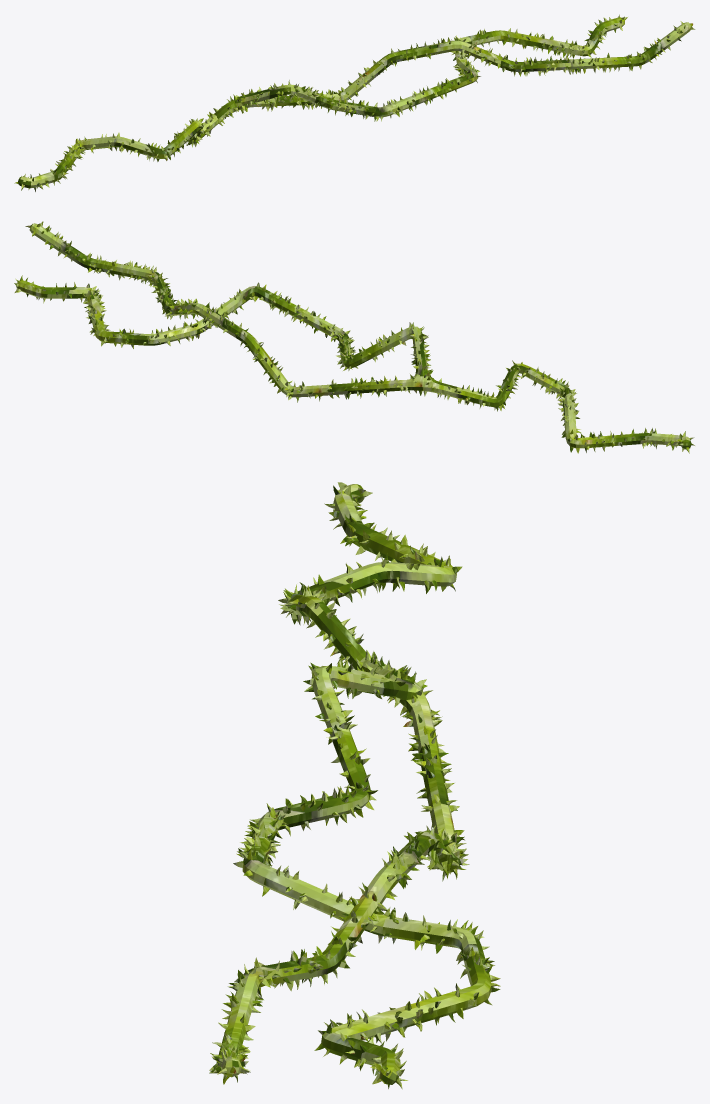
Rendered from tappurapitkä.fbx.
The picture shows the model from 3 angles, top to bottom: view 1: azimuth 30°, elevation 25°; view 2: azimuth 150°, elevation 25°; view 3: azimuth 270°, elevation 25°; orthographic projection. The views are drawn at different scales.
Visible parts, largest first — view 1: BezierCurve.004; view 2: BezierCurve.004; view 3: BezierCurve.004.
Boxes of the visible parts, x1,y1,x2,y2 form: BezierCurve.004: (14,14,695,191); BezierCurve.004: (14,221,694,453); BezierCurve.004: (209,482,500,1089).
Size of the model in its own units: 3256 by 324 by 637.
